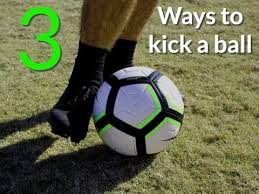football ball: (92, 66, 187, 157)
